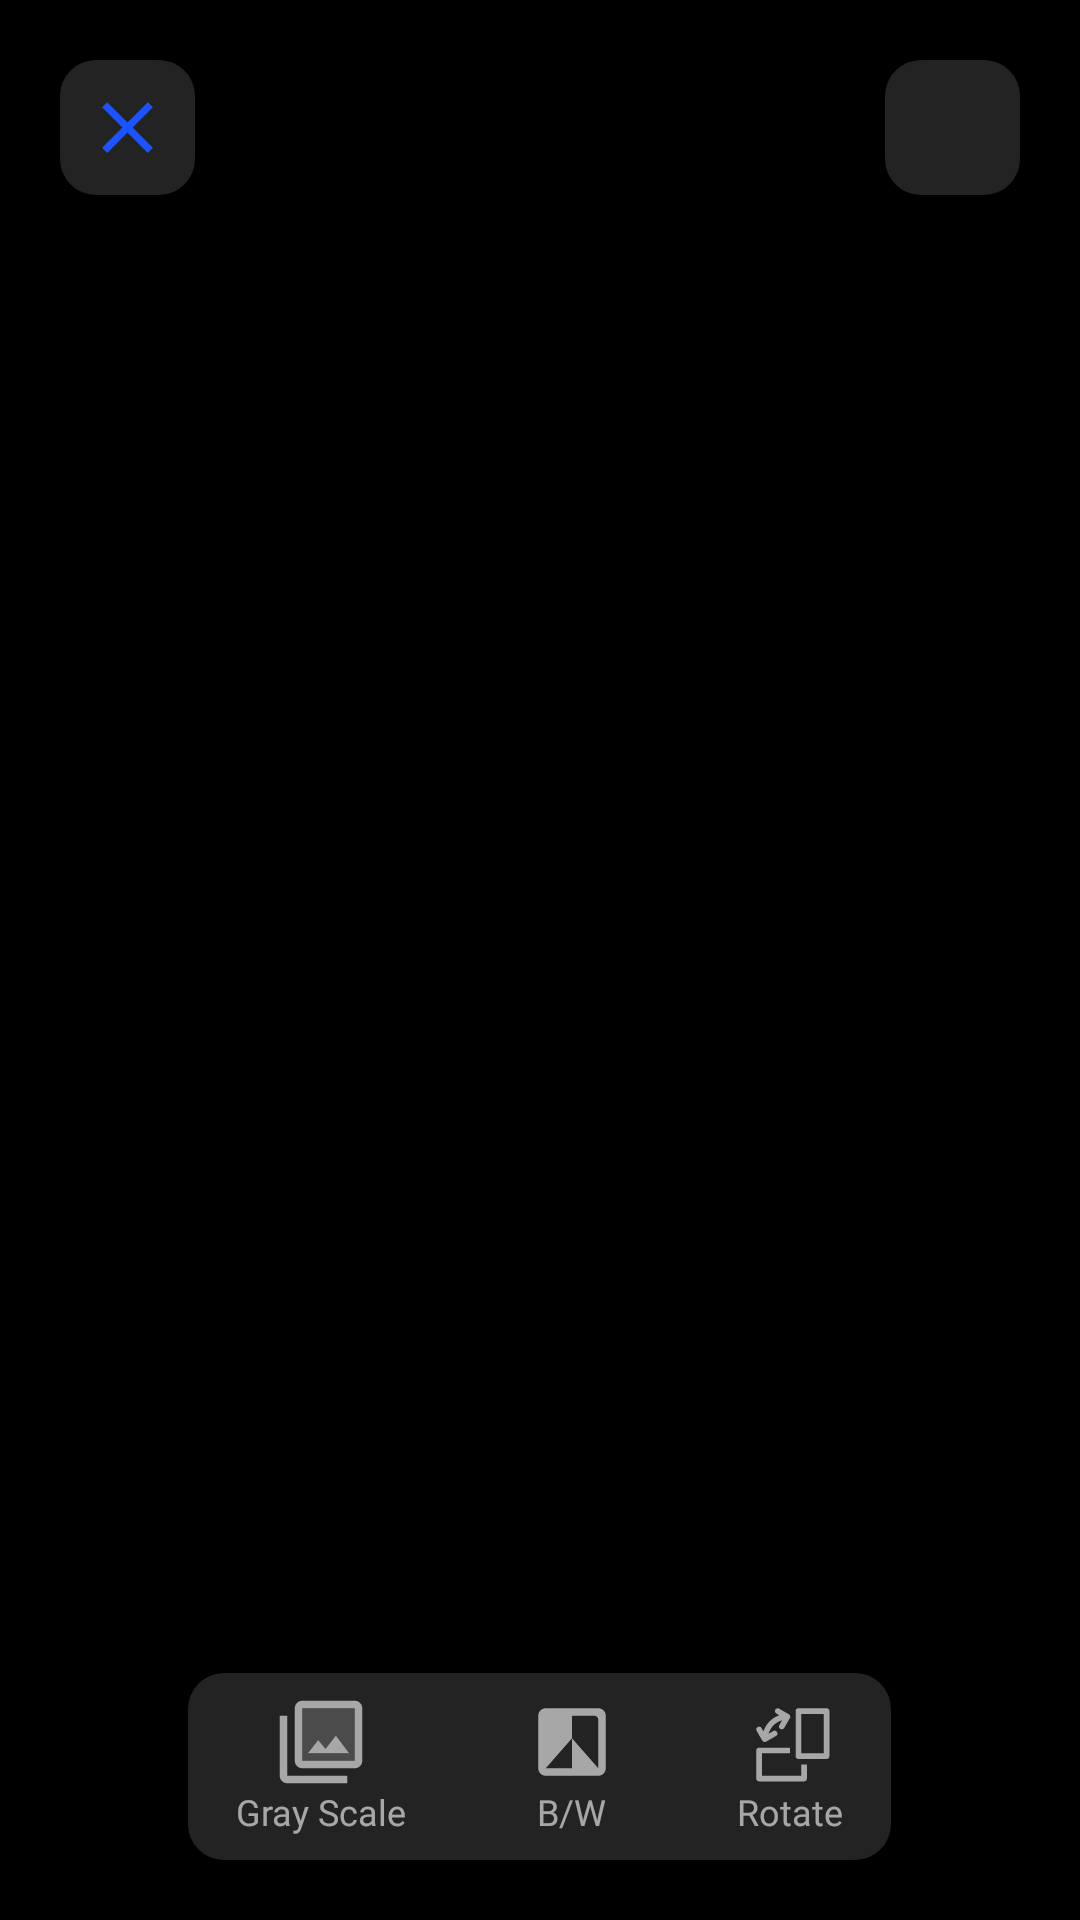

Screen size 1080 x 1920. Icon name, then its box in pixels as (left=x1, top=y1, right=x2, bottom=y2):
close: (left=60, top=60, right=195, bottom=195)
filter: (left=279, top=1700, right=363, bottom=1784)
